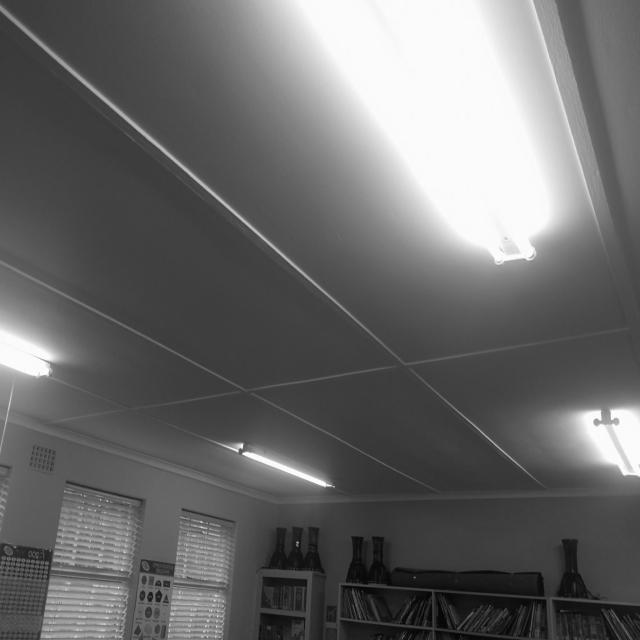light: (295, 0, 551, 265), (235, 437, 340, 492), (582, 410, 640, 477), (0, 334, 55, 380)
